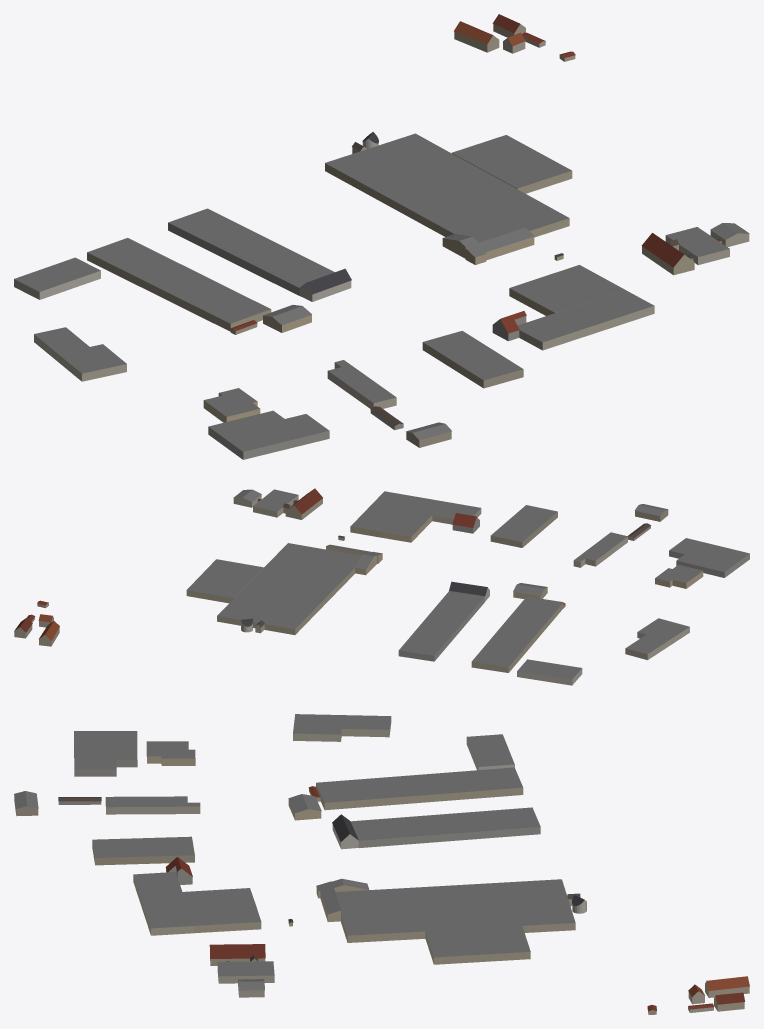
3 renders of one model, top to bottom at view 1: azimuth 30°, elevation 25°; view 2: azimuth 150°, elevation 25°; view 3: azimuth 270°, elevation 25°, orthographic. The views are drawn at different scales.
Parts seen in each view (by area): view 1: buildings; view 2: buildings; view 3: buildings.
Part boxes in pixels (<box>): buildings: <box>14,14,749,459</box>; buildings: <box>14,488,749,685</box>; buildings: <box>14,714,749,1014</box>.
Bounding box in the file's own units: 536 × 19.51 × 546.
